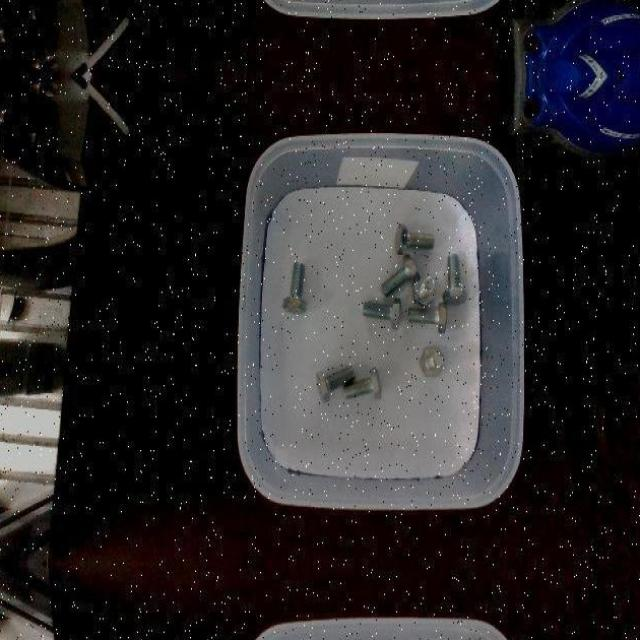screw: (381, 254, 420, 297), (316, 364, 355, 402), (281, 261, 307, 314), (441, 253, 467, 306), (343, 366, 381, 400), (395, 223, 435, 254), (361, 298, 401, 328), (407, 302, 447, 332), (413, 274, 437, 308), (420, 346, 445, 376)
